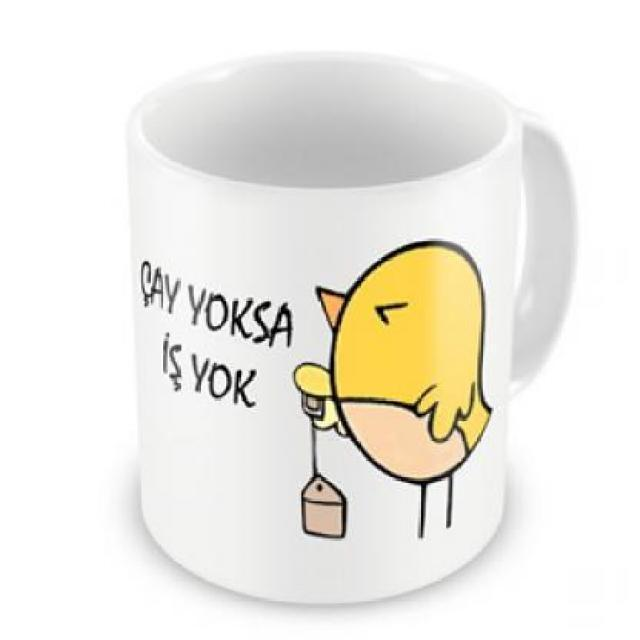taza: (120, 34, 589, 622)
